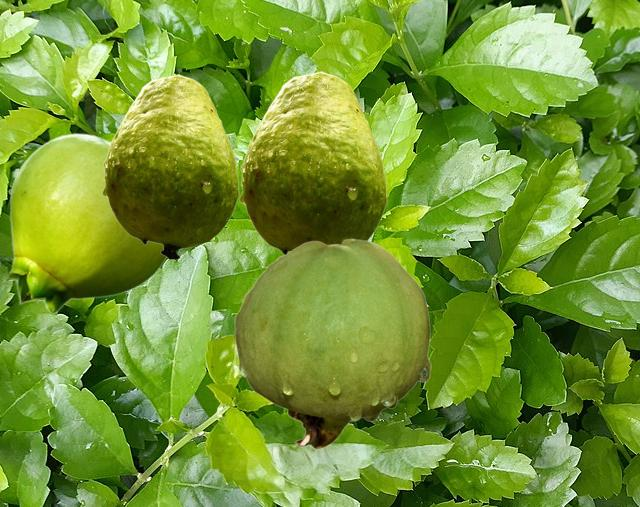guava: (234, 238, 430, 448), (7, 133, 166, 313), (239, 71, 386, 253), (102, 74, 238, 259)
